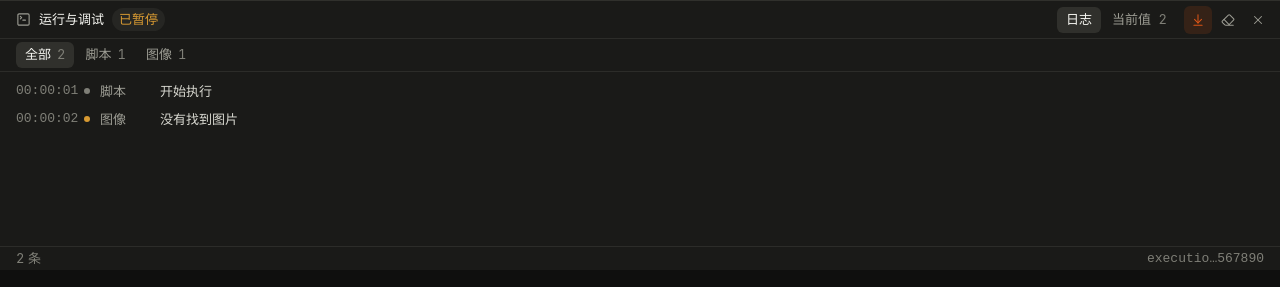
Test: ProgramRunConsole › shows named local results and project variables without exposing stable ids
The width and height of the screenshot is (1280, 287).
Click the button "当前值 2". click: (1140, 20)
box: x1=1103 y1=6 x2=1176 y2=32
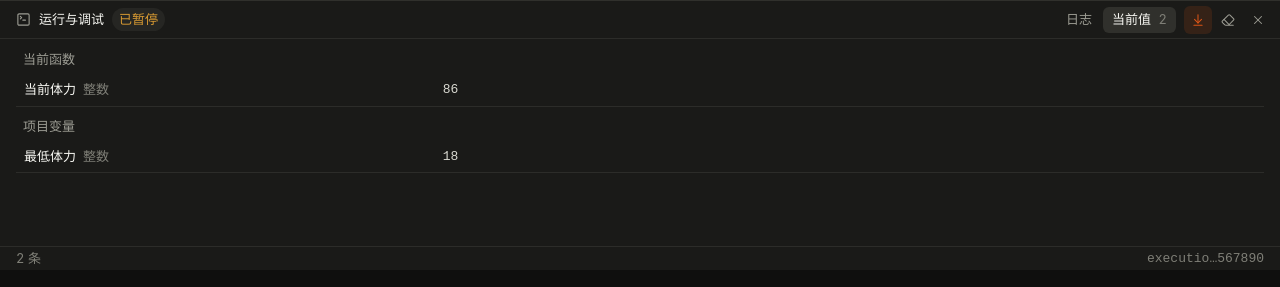
Expected: the text "当前体力" is shown, x1=24 y1=80 x2=76 y2=100
Expected: the text "最低体力" is shown, x1=24 y1=147 x2=76 y2=166
Expected: the text "86" is shown, x1=443 y1=82 x2=458 y2=97
